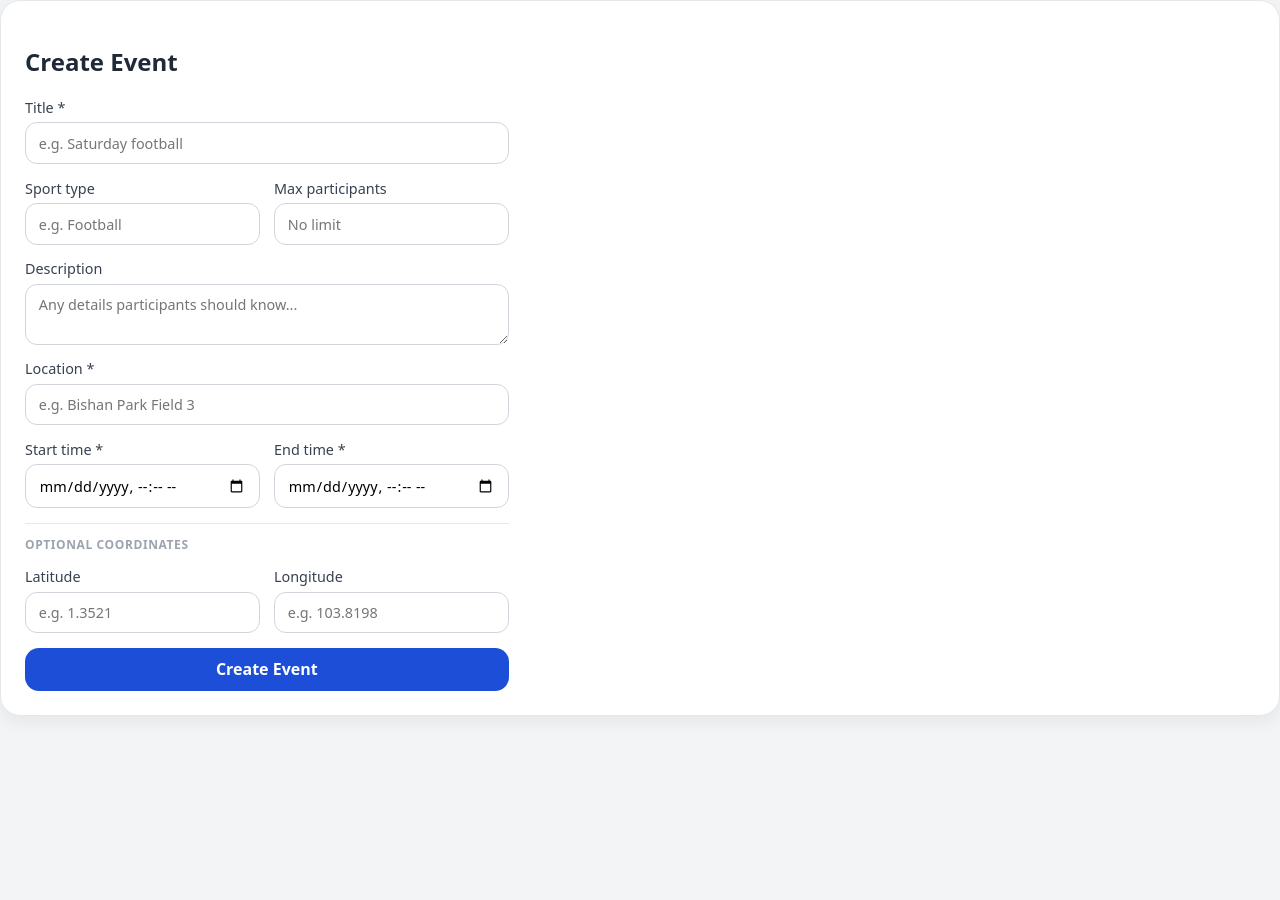
Test: CreateEventPage › shows generic error message on unknown failure
The image size is (1280, 900).
In the field labelled "Title *": (267, 143) [25,122,509,164], type "Park Run"
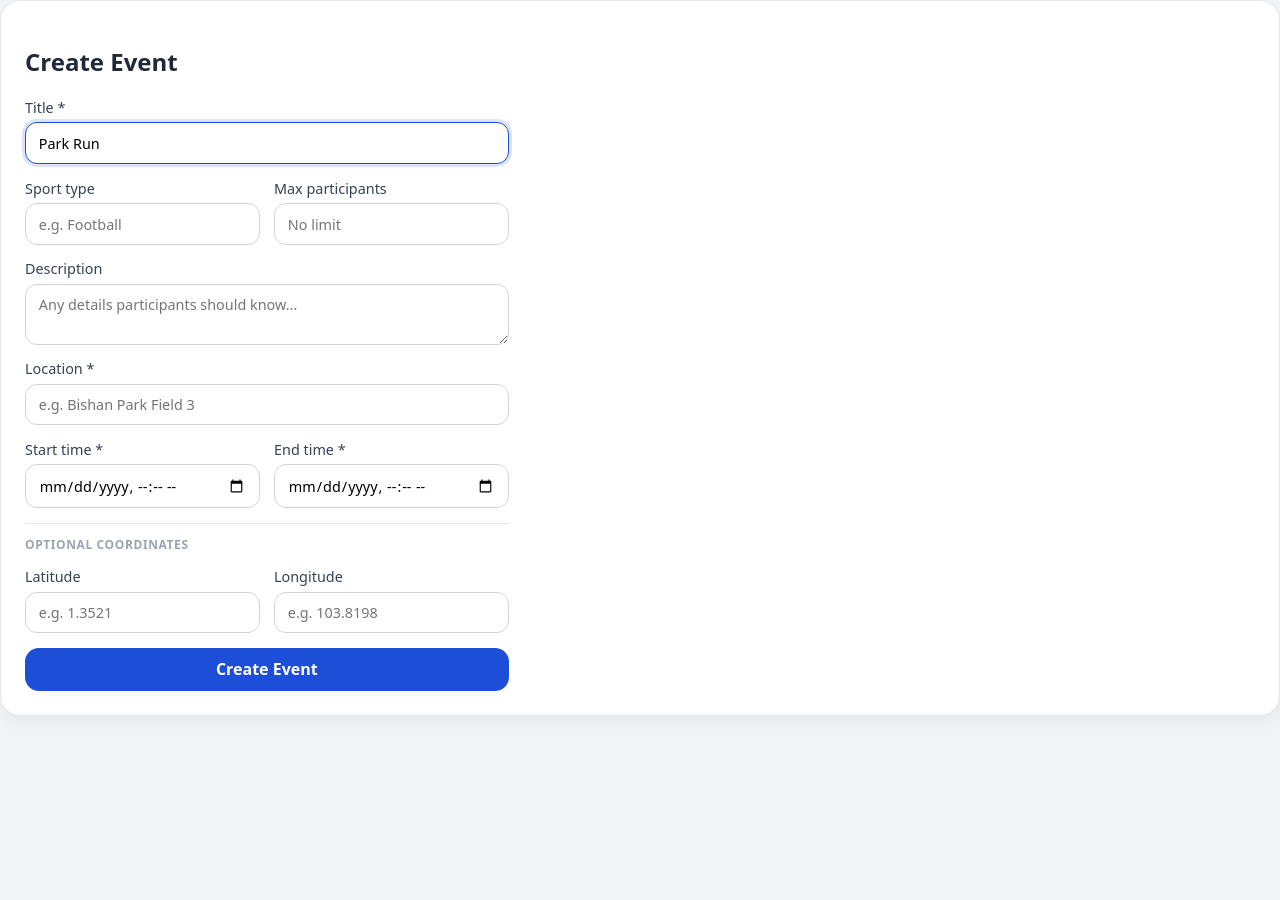
In the field labelled "Location *": (267, 405) [25,384,509,426], type "Botanic Gardens"
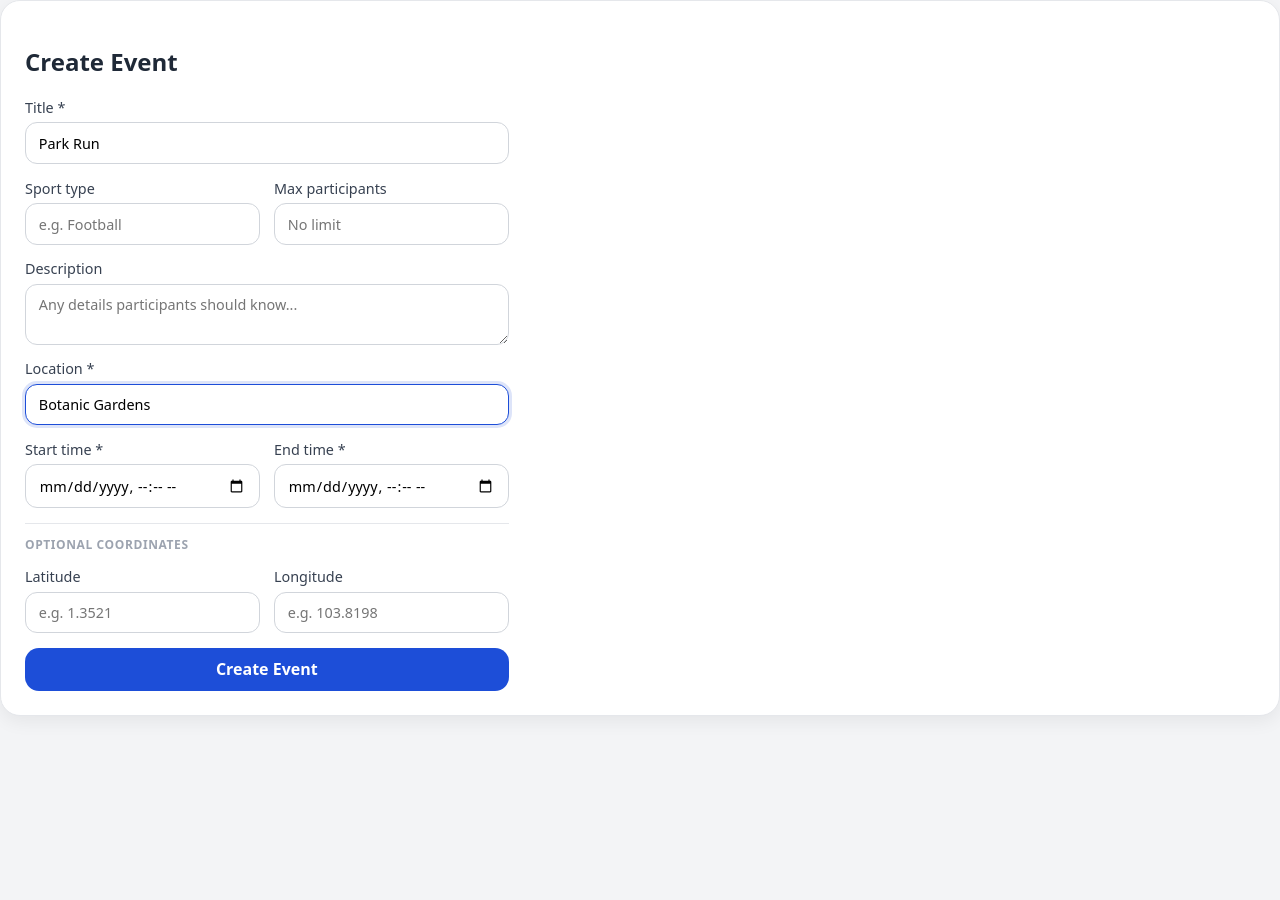
In the field labelled "Start time *": (142, 486) [25,464,260,508], type "2025-07-01T08:00"
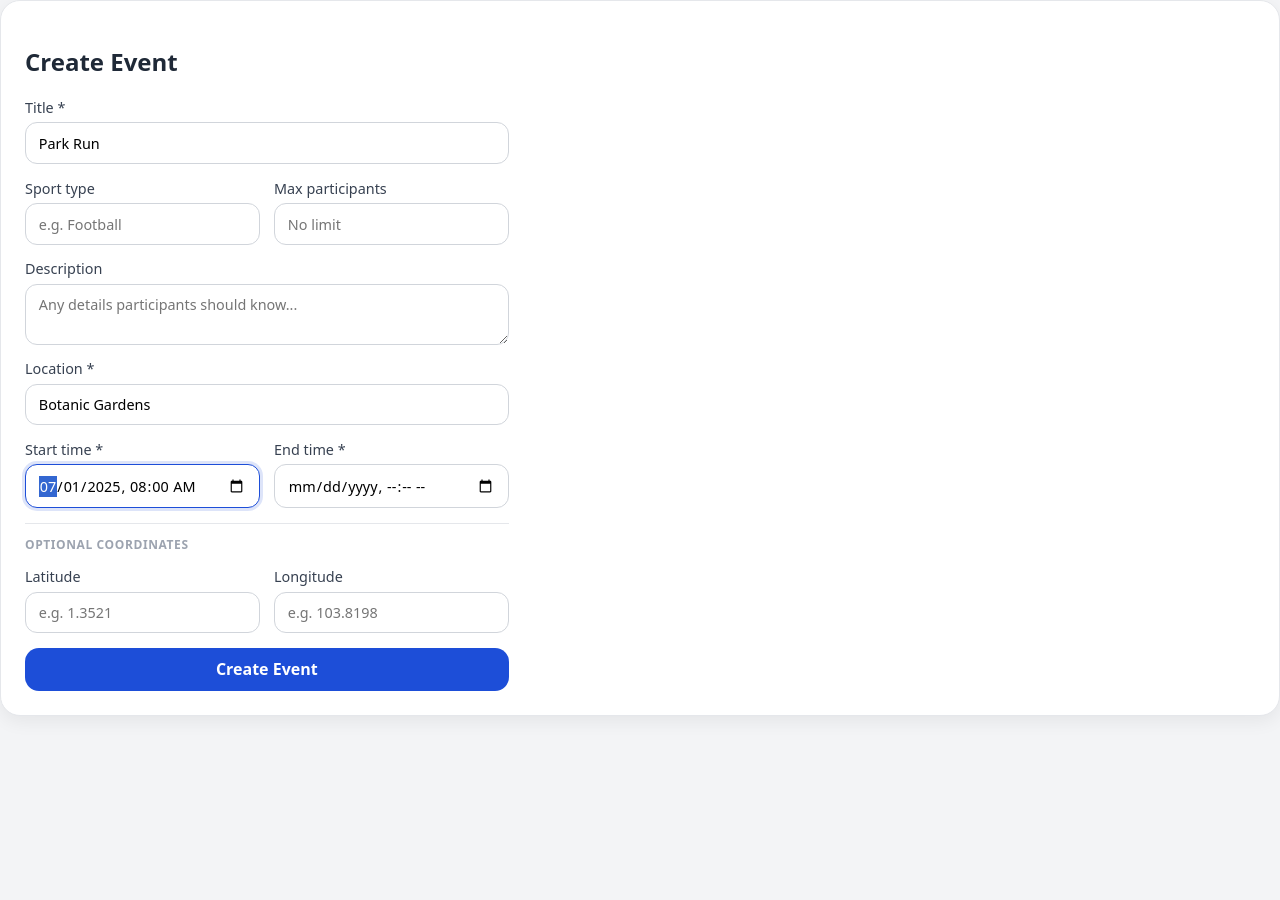
In the field labelled "End time *": (391, 486) [274,464,509,508], type "2025-07-01T09:00"
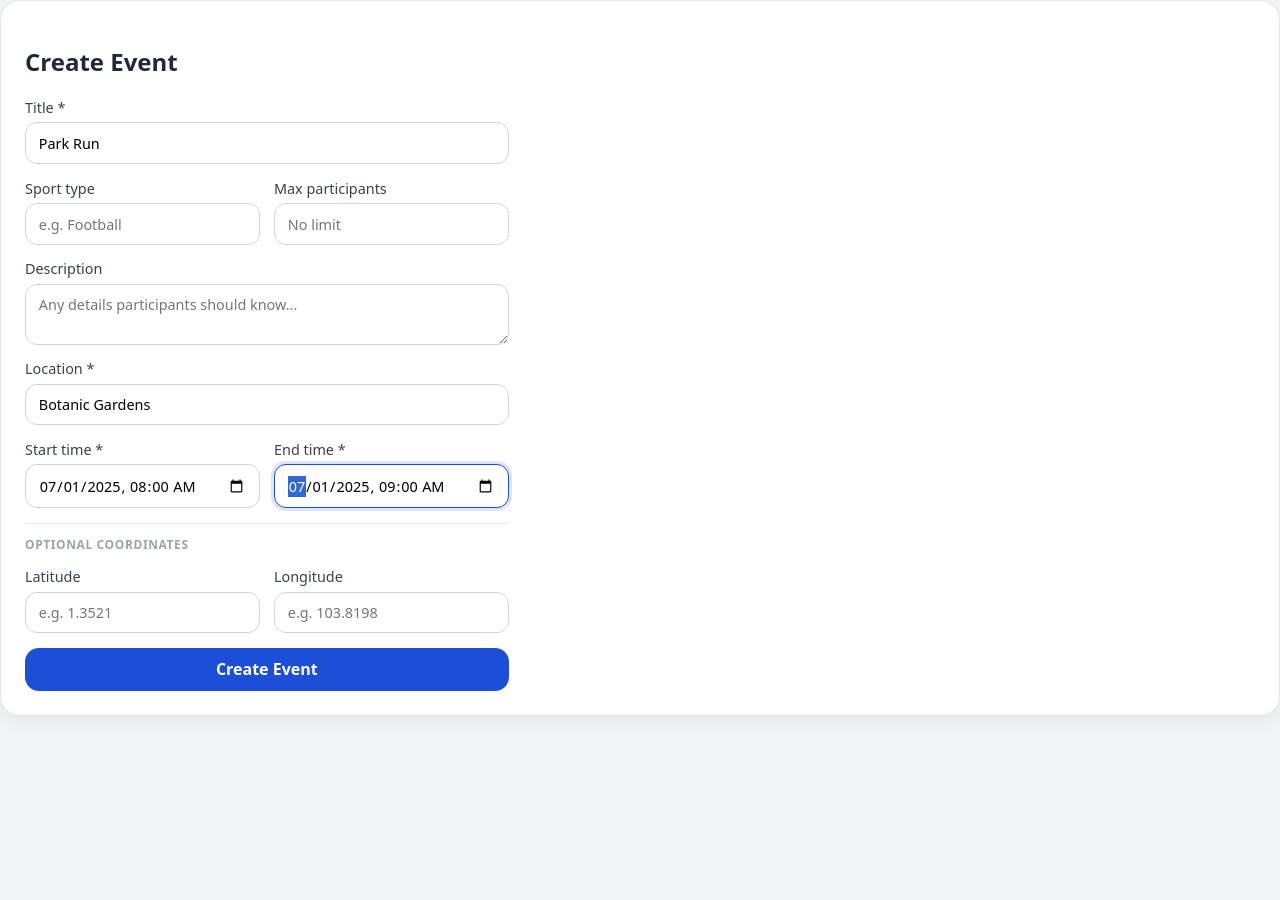
Click the button "Create Event": (267, 669) [25,648,509,691]
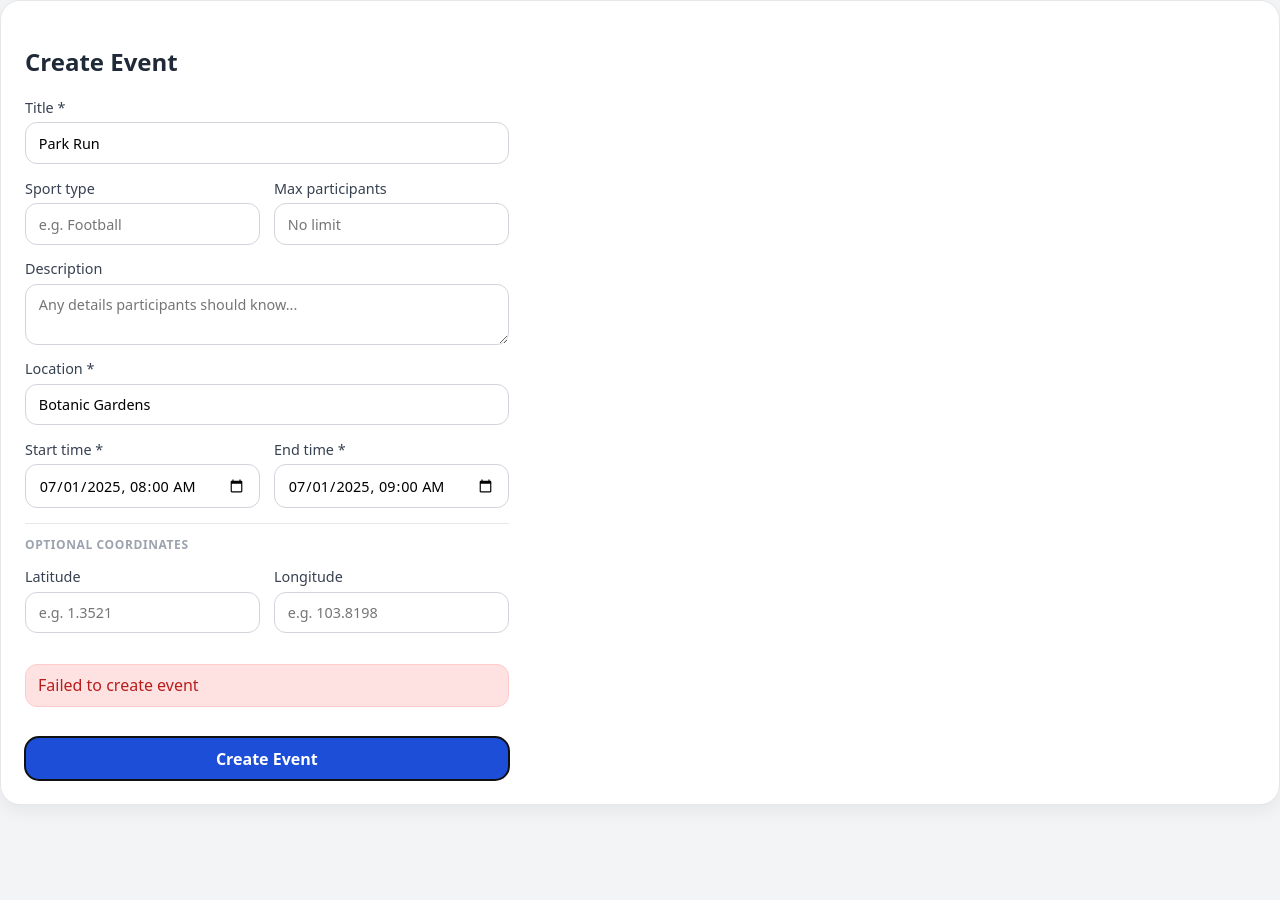
Now the text "Failed to create event" is shown, box [25,664,509,707]
